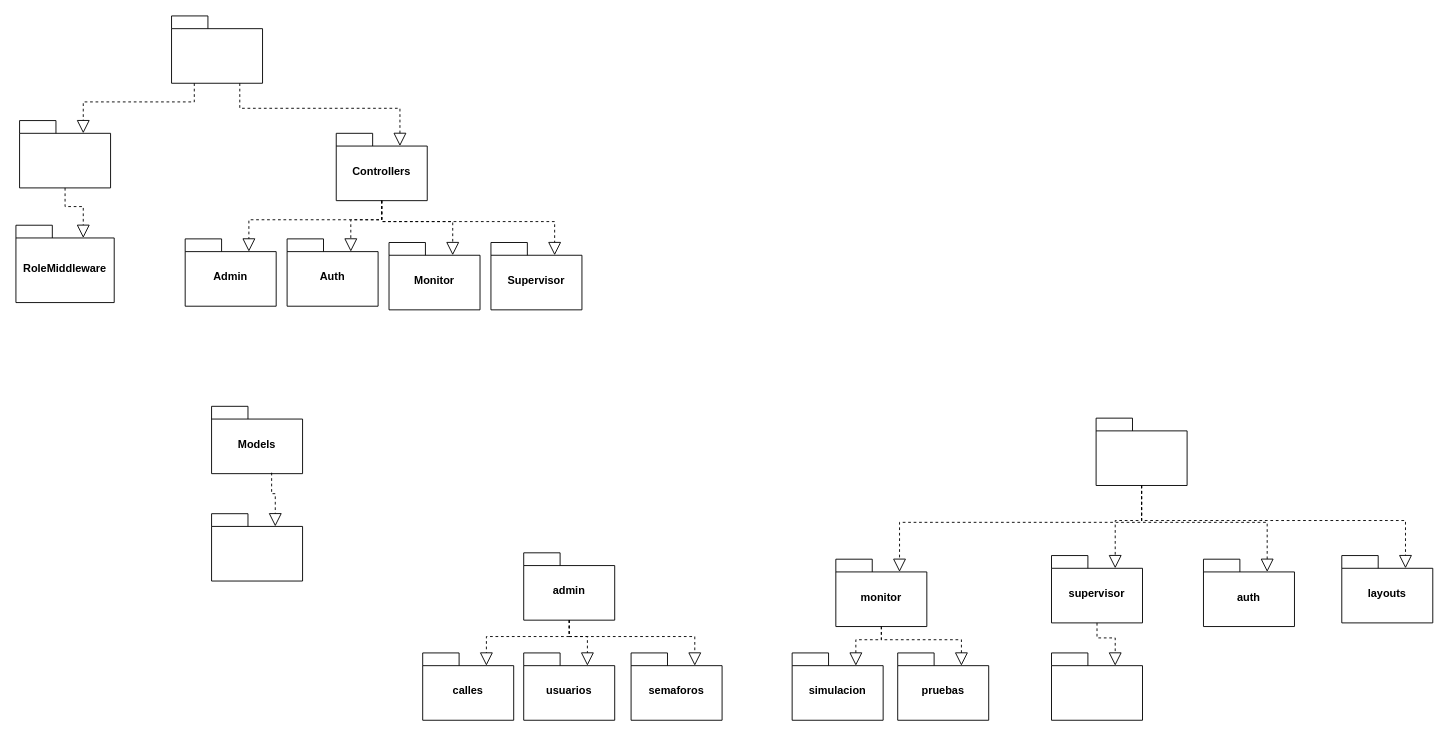
The diagram is 1449 pixels wide and 736 high, and some of its shapes have lost their labels. Each missing label, with the centre of its shape:
"HTTP" belongs at point 217,49.
"Middleware" belongs at point 65,154.
"Models Classes" belongs at point 257,547.
"reportes" belongs at point 1097,686.
"Views" belongs at point 1141,451.
